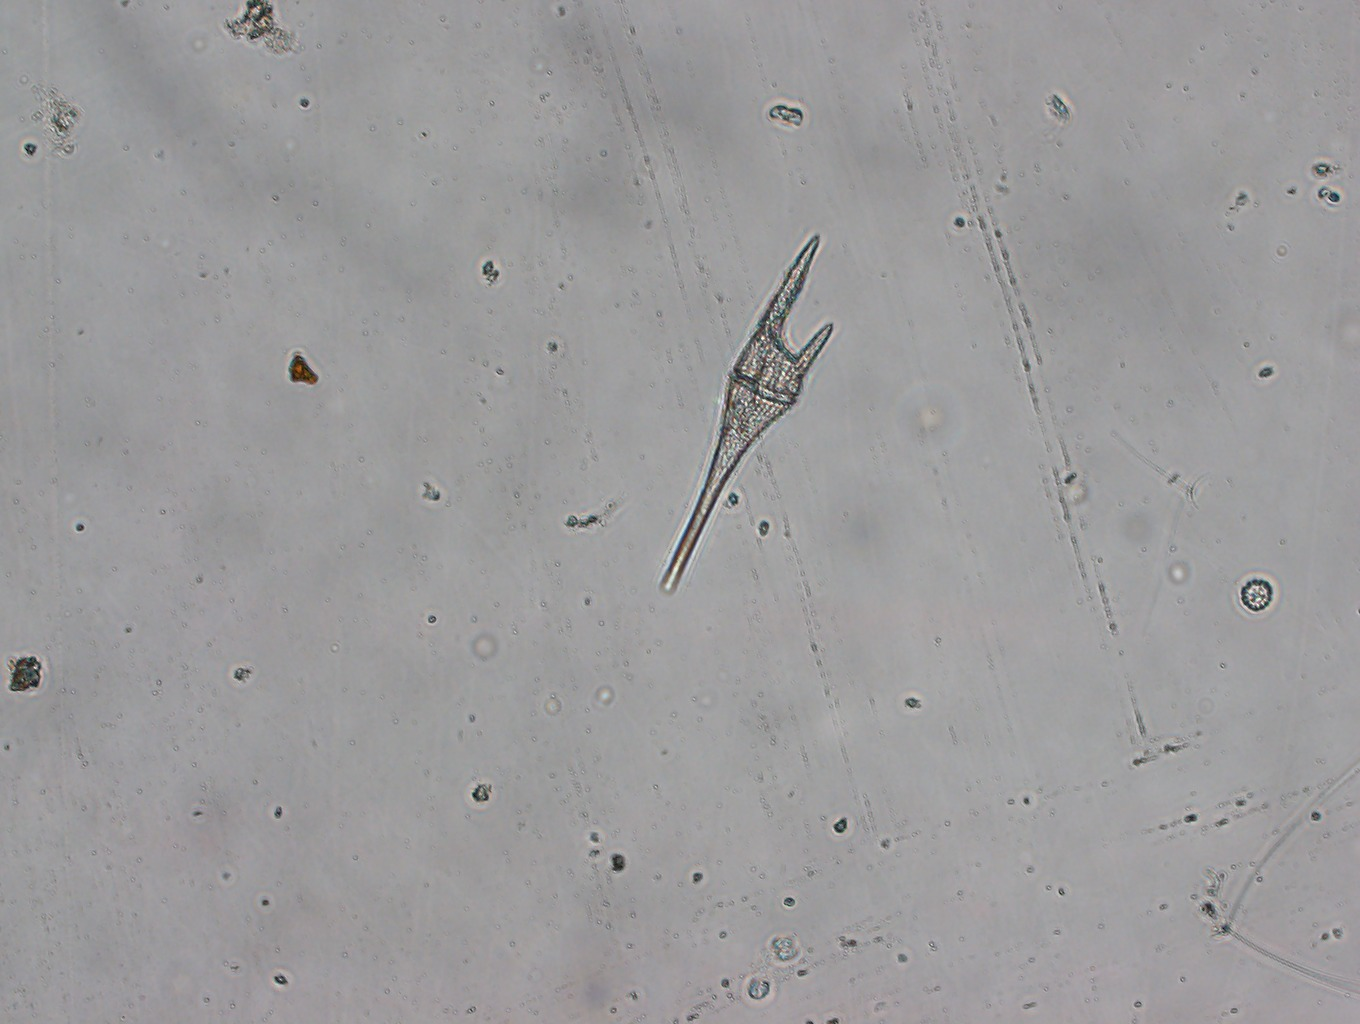ceratium furca: (643, 224, 838, 603)
